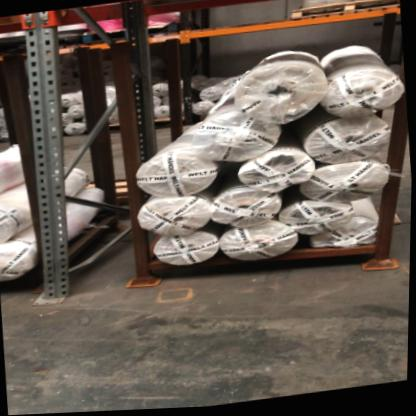vertical_damage: (31, 266, 86, 312)
